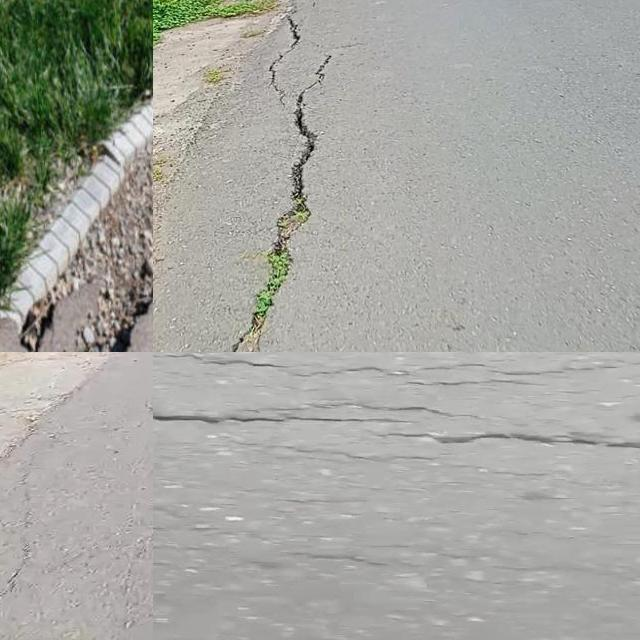Melintang: (153, 397, 462, 441), (402, 414, 640, 465)
Memanjang: (209, 50, 347, 352), (0, 540, 46, 620)
Pinggir: (0, 68, 153, 352)
